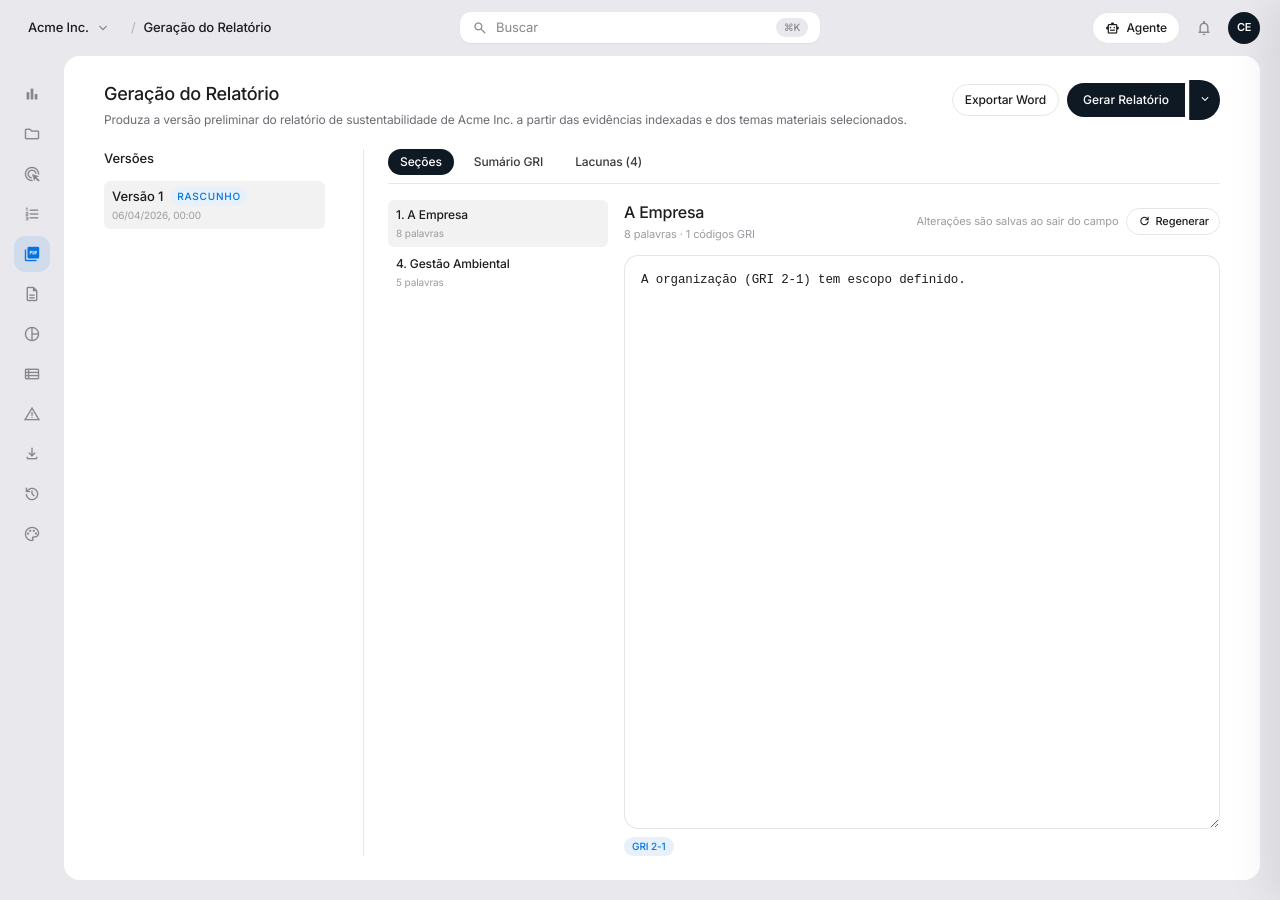
it: ProjectGenerationPage › switches to Sumário GRI tab and renders the index table
Expected: the text "Versão 1" is shown, x1=112 y1=186 x2=163 y2=206
Click the button "Sumário GRI" at (508, 162), box x1=462 y1=149 x2=555 y2=175
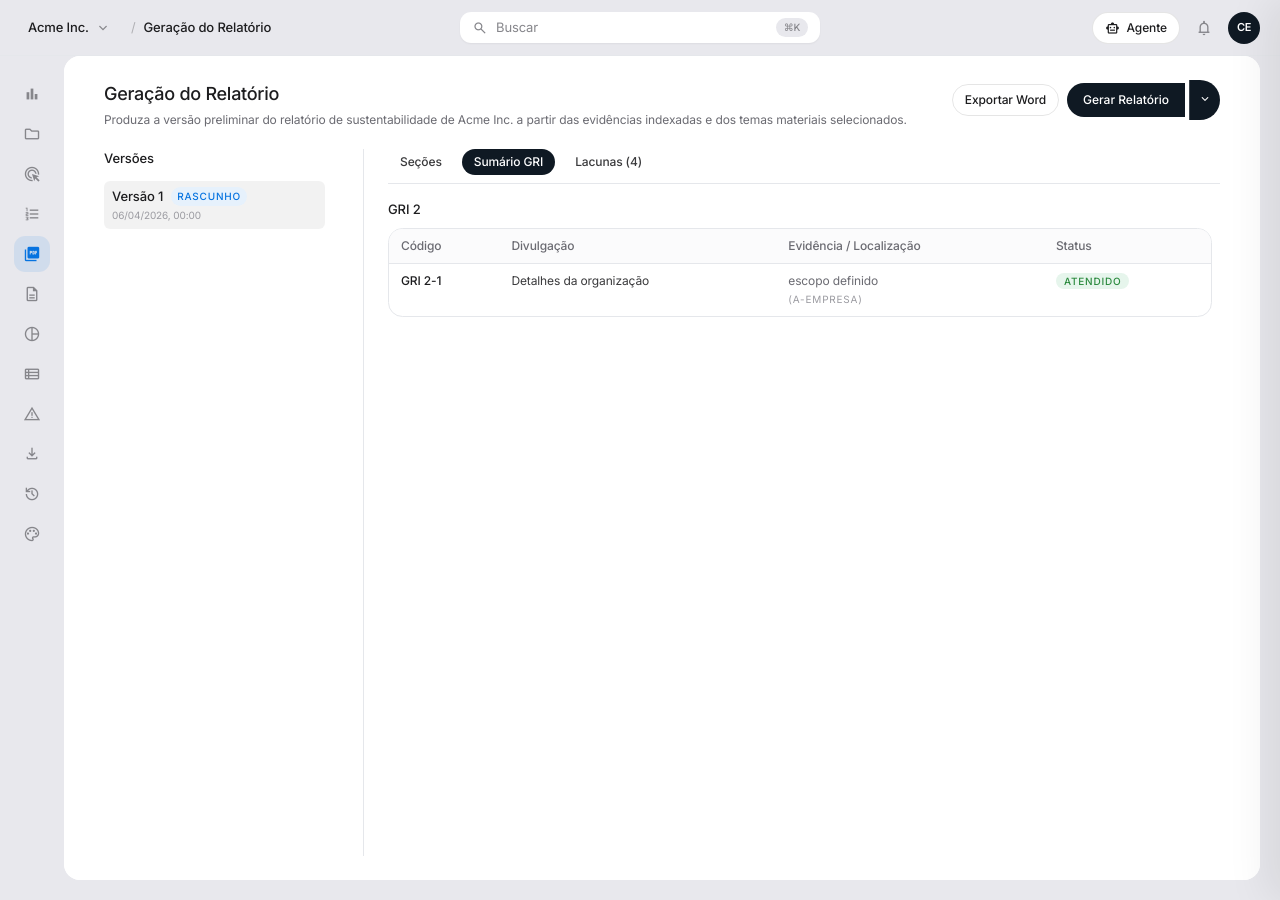
Expected: the text "GRI 2-1" is shown, x1=389 y1=263 x2=499 y2=316
Expected: the heading "GRI 2" is shown, x1=388 y1=201 x2=420 y2=217
